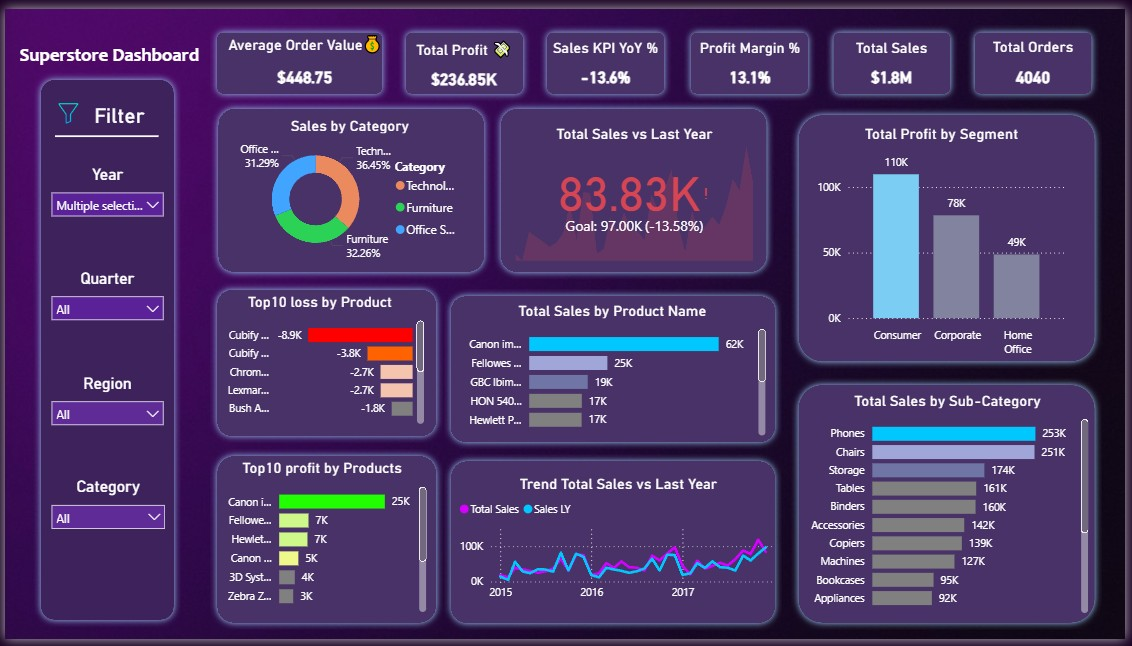

What the dashboard file says about the page in this screenshot:
{"tool":"powerbi","page":{"name":"main_page","canvas":[1280,720],"ordinal":0},"visuals":[{"type":"shape","box":[234.1,503.2,266.7,206.7],"z":0},{"type":"shape","box":[234.1,313.2,266.7,183.3],"z":1000},{"type":"shape","box":[500.8,319.9,386.7,183.3],"z":2000},{"type":"shape","box":[500.8,508.2,386.7,201.7],"z":3000},{"type":"shape","box":[899.1,421.5,355,288.3],"z":4000},{"type":"shape","box":[558.5,106.2,320,203.3],"z":5000},{"type":"shape","box":[899.1,113.2,355,298.3],"z":6000},{"type":"shape","box":[938.8,19.2,150,86.7],"z":7000},{"type":"shape","box":[1100.5,19.2,150,86.7],"z":8000},{"type":"shape","box":[235.1,106.2,320,203.3],"z":9000},{"type":"shape","box":[775.5,19.2,150,86.7],"z":10000},{"type":"shape","box":[612.1,19.2,150,86.7],"z":11000},{"type":"shape","box":[450.5,19.2,150,86.7],"z":12000},{"type":"shape","box":[233.8,19.2,205,86.7],"z":13000},{"type":"shape","box":[32.6,73.3,168.3,633.3],"z":14000},{"type":"card","title":"Total Sales","fields":{"Values":["Dim_Date.Total Sales"]},"box":[955.5,34.2,115,70],"z":15000},{"type":"card","title":"Total Profit 💸","fields":{"Values":["Dim_Date.Total Profit"]},"box":[457.1,32.5,135,76.7],"z":16000},{"type":"card","title":"Total Orders","fields":{"Values":["Dim_Date.Total Orders"]},"box":[1105.5,32.5,138.3,71.7],"z":17000},{"type":"card","title":"Profit Margin %","fields":{"Values":["Dim_Date.Profit Margin %"]},"box":[775.5,34.2,151.7,70],"z":18000},{"type":"kpi","title":"Total Sales vs Last Year","fields":{"Indicator":["Dim_Date.Total Sales"],"TrendLine":["Dim_Date.Start of Month"],"Goal":["Dim_Date.Sales LY"]},"box":[578.5,132.9,281.7,160],"z":19000},{"type":"card","title":"Sales KPI YoY %","fields":{"Values":["Dim_Date.Sales KPI YoY %"]},"box":[617.1,34.2,138.3,70],"z":20000},{"type":"slicer","title":"Year","fields":{"Values":["Dim_Date.Year"]},"box":[42.6,178.3,148.3,66.7],"z":21000},{"type":"slicer","title":"Quarter","fields":{"Values":["Dim_Date.Quarter"]},"box":[42.6,296.7,148.3,63.3],"z":22000},{"type":"slicer","title":"Category","fields":{"Values":["superstore_clean.Category"]},"box":[42.6,535,150,71.7],"z":23000},{"type":"slicer","title":"Region","fields":{"Values":["superstore_clean.Region"]},"box":[42.6,416.7,148.3,73.3],"z":24000},{"type":"barChart","fields":{"Y":["Dim_Date.Total Sales"],"Category":["superstore_clean.Product Name"]},"box":[514.1,334.9,360,158.3],"z":25000},{"type":"clusteredBarChart","title":"Top10 profit by Products","fields":{"Category":["superstore_clean.Product Name"],"Y":["Dim_Date.Total Profit"]},"box":[238,514,248,180],"z":26000},{"type":"clusteredBarChart","title":"Top10 loss by Product","fields":{"Category":["superstore_clean.Product Name"],"Y":["Dim_Date.Total Profit"]},"box":[235.8,324.9,248.3,155],"z":27000},{"type":"lineChart","title":"Trend Total Sales vs Last Year","fields":{"Category":["Dim_Date.Start of Month.Variation.Date Hierarchy.Year","Dim_Date.Start of Month.Variation.Date Hierarchy.Quarter","Dim_Date.Start of Month.Variation.Date Hierarchy.Month","Dim_Date.Start of Month.Variation.Date Hierarchy.Day"],"Y":["Dim_Date.Total Sales","Dim_Date.Sales LY"]},"box":[514.1,533.2,373.3,151.7],"z":28000},{"type":"donutChart","title":"Sales by Category","fields":{"Category":["superstore_clean.Category"],"Y":["Dim_Date.Total Sales"]},"box":[260.1,122.9,268.3,170],"z":29000},{"type":"clusteredBarChart","fields":{"Category":["superstore_clean.Sub-Category"],"Y":["Dim_Date.Total Sales"]},"box":[910.8,436.5,331.7,258.3],"z":30000},{"type":"clusteredColumnChart","fields":{"Category":["superstore_clean.Segment"],"Y":["Dim_Date.Total Profit"]},"box":[922.5,133.2,295,271.7],"z":31000},{"type":"card","title":"Average Order Value💰","fields":{"Values":["Dim_Date.AOV"]},"box":[247.1,27.5,191.7,85],"z":32000},{"type":"textbox","box":[12,34,224,40],"z":33000},{"type":"textbox","box":[97.6,103.3,95,51.7],"z":34000},{"type":"image","box":[47.6,103.3,50,33.3],"z":35000},{"type":"shape","box":[57.6,133.3,118.3,25],"z":36000}]}

Visuals, with their boxes in screenshot pixels (x1, y1, x2, y2), scaled from the page's 1280x720 canvas onto the 1132x646 screenshot:
shape: <region>207, 451, 443, 637</region>
shape: <region>207, 281, 443, 445</region>
shape: <region>443, 287, 785, 451</region>
shape: <region>443, 456, 785, 637</region>
shape: <region>795, 378, 1109, 637</region>
shape: <region>494, 95, 777, 278</region>
shape: <region>795, 102, 1109, 369</region>
shape: <region>830, 17, 963, 95</region>
shape: <region>973, 17, 1106, 95</region>
shape: <region>208, 95, 491, 278</region>
shape: <region>686, 17, 818, 95</region>
shape: <region>541, 17, 674, 95</region>
shape: <region>398, 17, 531, 95</region>
shape: <region>207, 17, 388, 95</region>
shape: <region>29, 66, 178, 634</region>
"Total Sales" card: <region>845, 31, 947, 93</region>
"Total Profit 💸" card: <region>404, 29, 524, 98</region>
"Total Orders" card: <region>978, 29, 1100, 93</region>
"Profit Margin %" card: <region>686, 31, 820, 93</region>
"Total Sales vs Last Year" kpi: <region>512, 119, 761, 263</region>
"Sales KPI YoY %" card: <region>546, 31, 668, 93</region>
"Year" slicer: <region>38, 160, 169, 220</region>
"Quarter" slicer: <region>38, 266, 169, 323</region>
"Category" slicer: <region>38, 480, 170, 544</region>
"Region" slicer: <region>38, 374, 169, 440</region>
barChart - Dim_Date.Total Sales x superstore_clean.Product Name: <region>455, 300, 773, 443</region>
"Top10 profit by Products" clusteredBarChart: <region>210, 461, 430, 623</region>
"Top10 loss by Product" clusteredBarChart: <region>209, 292, 428, 431</region>
"Trend Total Sales vs Last Year" lineChart: <region>455, 478, 785, 615</region>
"Sales by Category" donutChart: <region>230, 110, 467, 263</region>
clusteredBarChart - superstore_clean.Sub-Category x Dim_Date.Total Sales: <region>805, 392, 1099, 623</region>
clusteredColumnChart - superstore_clean.Segment x Dim_Date.Total Profit: <region>816, 120, 1077, 363</region>
"Average Order Value💰" card: <region>219, 25, 388, 101</region>
textbox: <region>11, 31, 209, 66</region>
textbox: <region>86, 93, 170, 139</region>
image: <region>42, 93, 86, 123</region>
shape: <region>51, 120, 156, 142</region>
